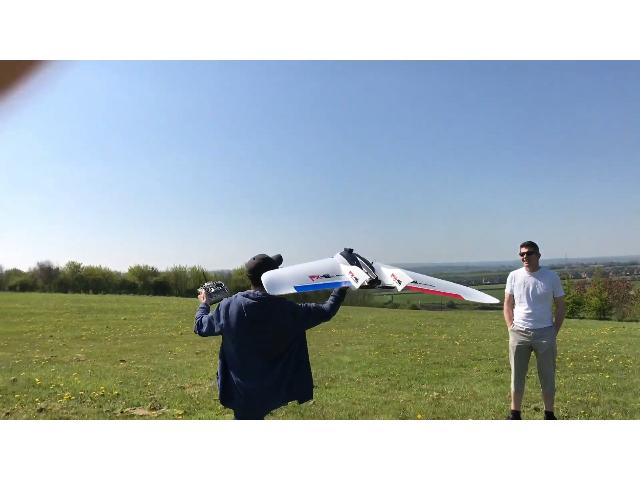Anti-Drone: (248, 226, 524, 320)
